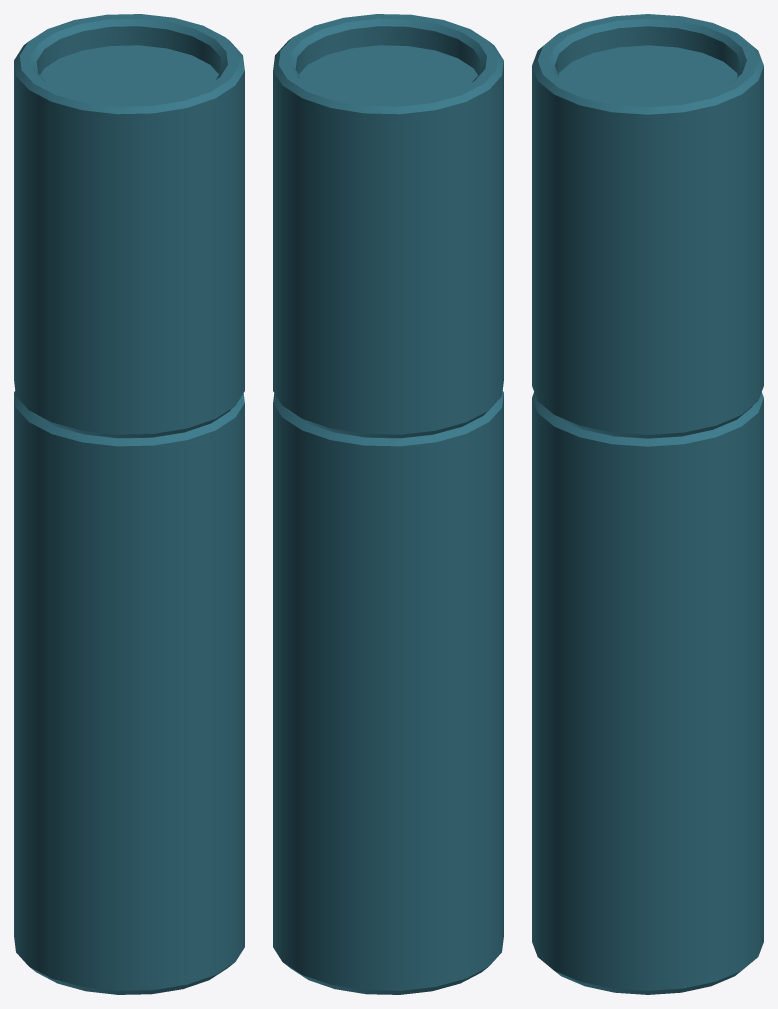
File: scroll_low.fbx
3 views of the same model, side by side, from view 1: azimuth 30°, elevation 25°; view 2: azimuth 150°, elevation 25°; view 3: azimuth 270°, elevation 25° (orthographic).
Visible parts, largest first — view 1: scroll_low; view 2: scroll_low; view 3: scroll_low.
Boxes of the visible parts, bbox=[...] form: scroll_low: bbox=[14, 14, 244, 994]; scroll_low: bbox=[273, 14, 503, 994]; scroll_low: bbox=[532, 14, 763, 994].
Size of the model in its own units: 2 by 8.46 by 2.
